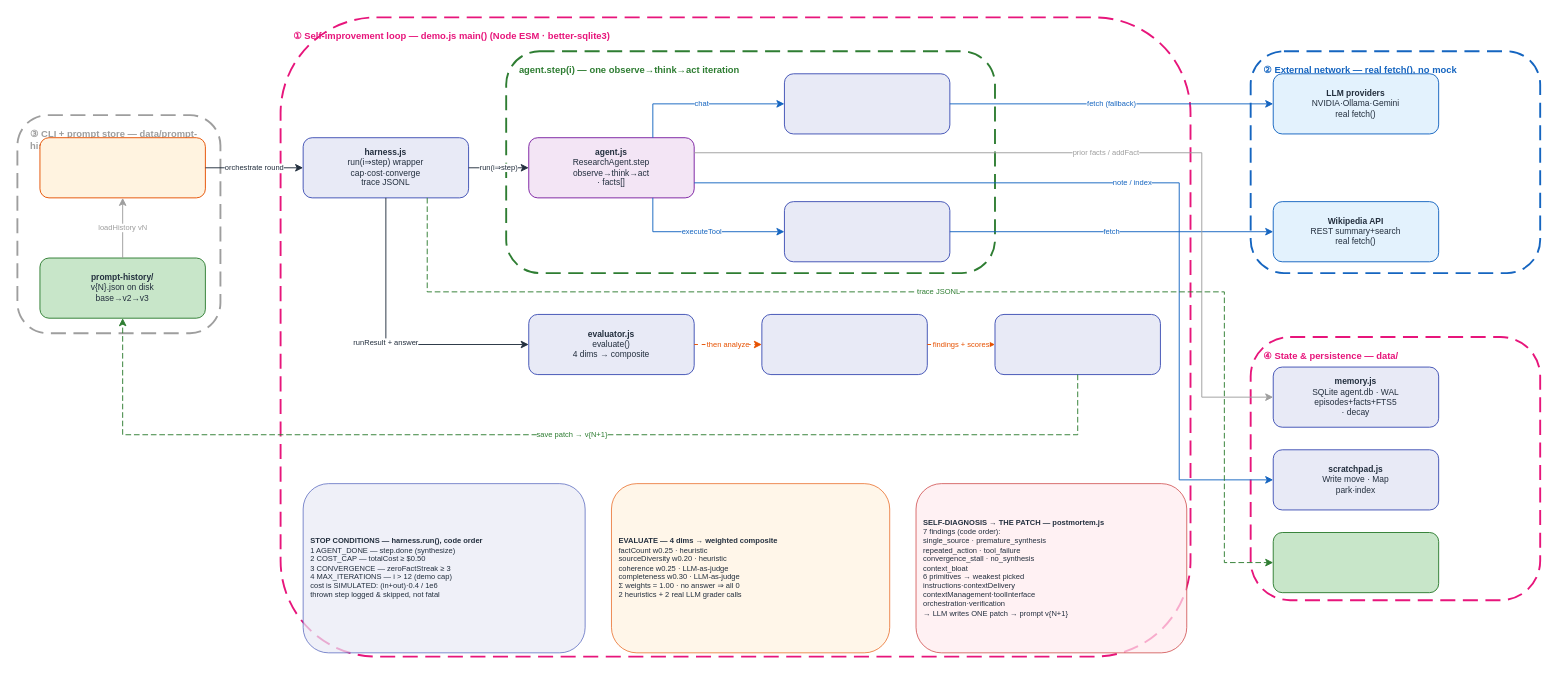
Image size: 1557x673. Some labels were removed from this diagram. The shapes that lost their labels are listed below. From the top down, each one's centre as x and y in pixels, then its label:
At (866,103): "llm.js LLMAdapter.chat 3-provider fallback · JSON retry".
At (122,167): "demo.js CLI · main() loop · rounds=3".
At (866,231): "tools.js executeTool 5 tools · dispatch".
At (844,344): "postmortem.js analyzeRun() 7 finds · 6 prims".
At (1077,344): "improver.js generatePatch applyPatch".
At (1355,562): "data/traces/ *.jsonl per run harness".
